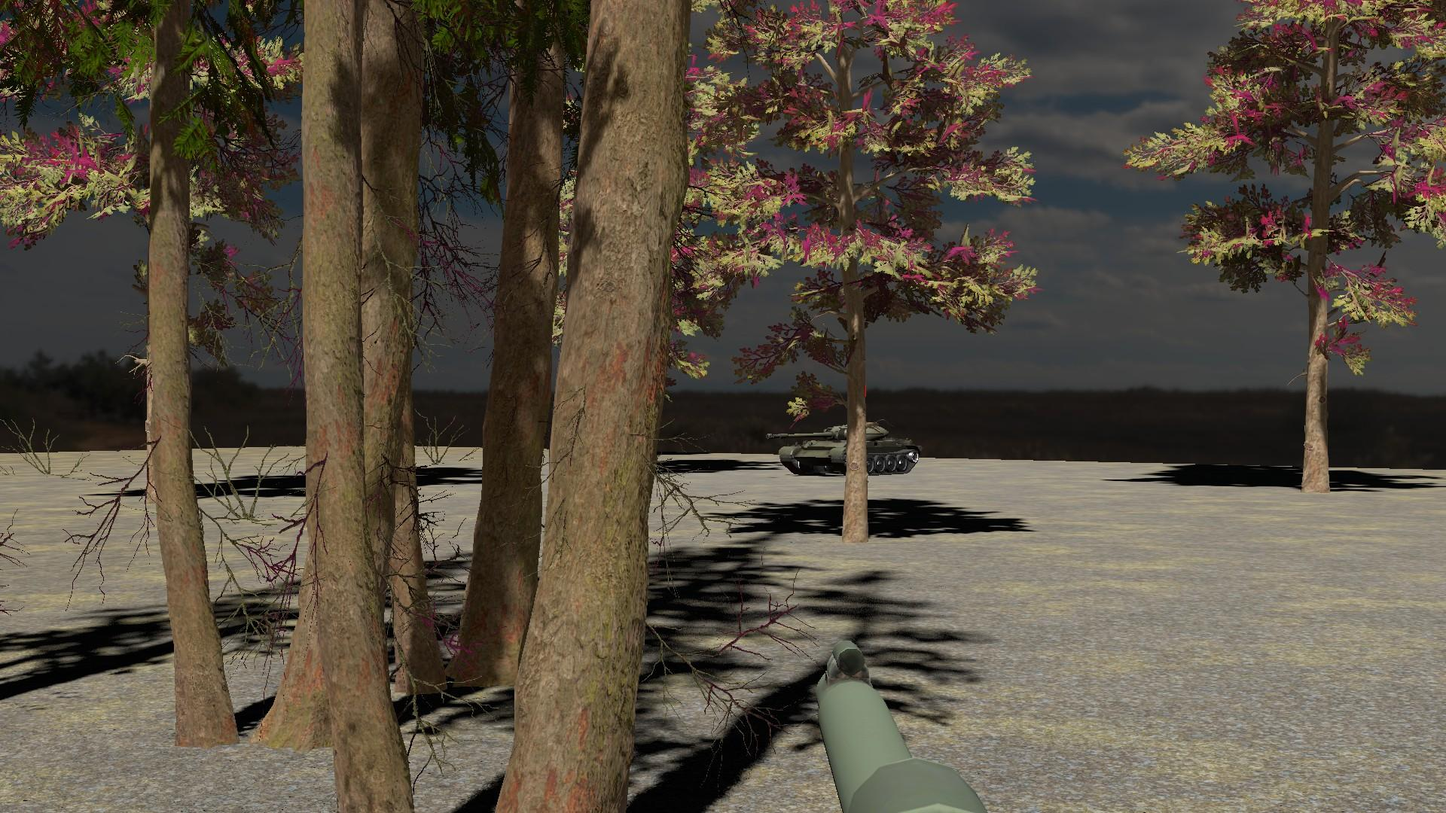Tank: (758, 409, 926, 482)
